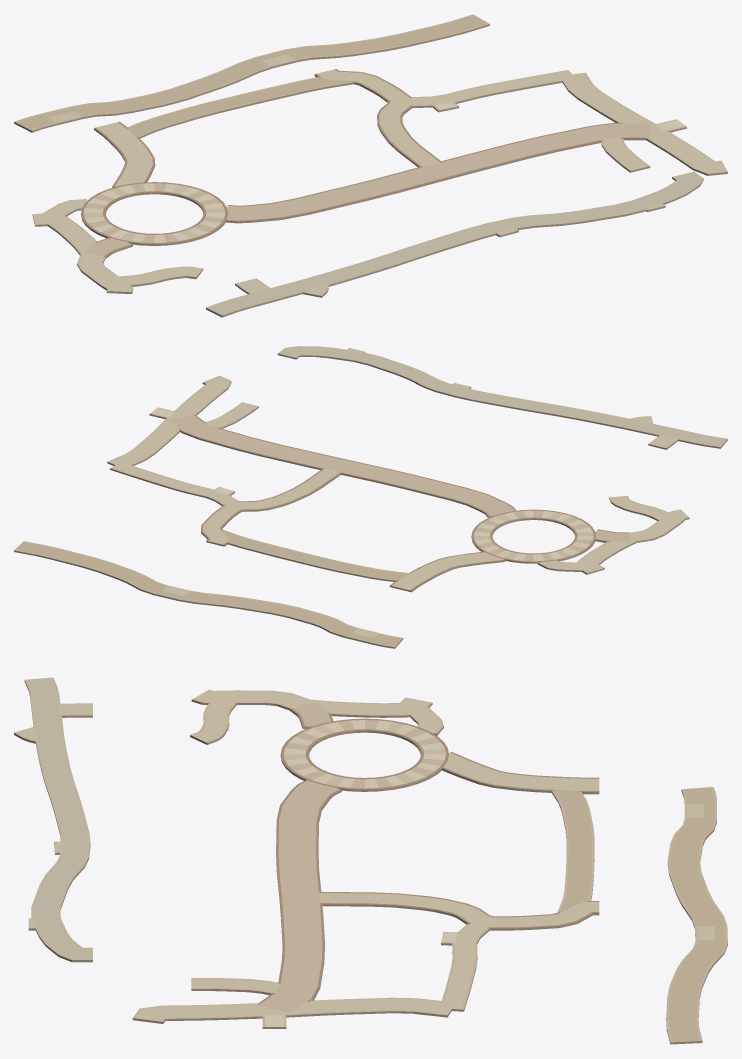
3 views of the same model, one above another, from view 1: azimuth 30°, elevation 25°; view 2: azimuth 150°, elevation 25°; view 3: azimuth 270°, elevation 25° (orthographic). The views are drawn at different scales.
Visible parts, largest first — view 1: L1 Town Loop and Wish Square, L2 Crest Walk, L0 Shore Walk; view 2: L1 Town Loop and Wish Square, L2 Crest Walk, L0 Shore Walk; view 3: L1 Town Loop and Wish Square, L2 Crest Walk, L0 Shore Walk.
Boxes of the visible parts, left/top/right/bottom form: L1 Town Loop and Wish Square: left=32, top=69, right=727, bottom=293; L2 Crest Walk: left=206, top=171, right=703, bottom=317; L0 Shore Walk: left=14, top=14, right=489, bottom=132; L1 Town Loop and Wish Square: left=107, top=375, right=689, bottom=592; L2 Crest Walk: left=277, top=346, right=727, bottom=449; L0 Shore Walk: left=14, top=541, right=403, bottom=648; L1 Town Loop and Wish Square: left=132, top=689, right=599, bottom=1028; L2 Crest Walk: left=14, top=677, right=92, bottom=962; L0 Shore Walk: left=666, top=787, right=727, bottom=1044.
Size of the model in its own units: 44.18 by 3.53 by 39.51.
